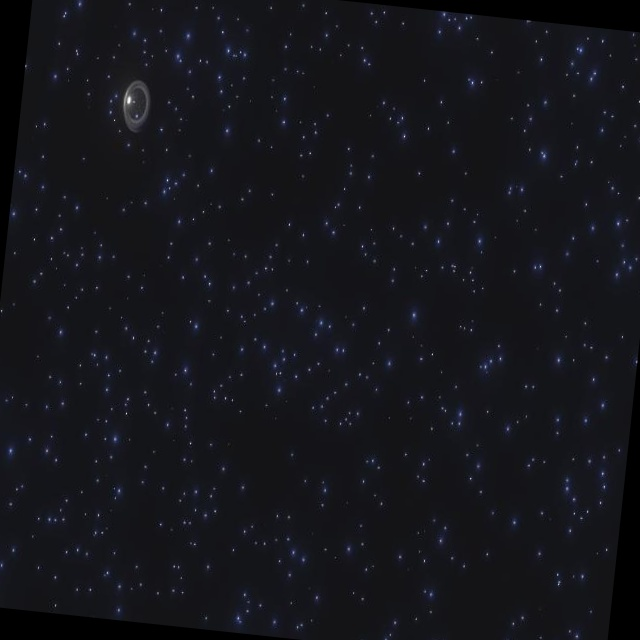large_debris: (117, 65, 158, 142)
